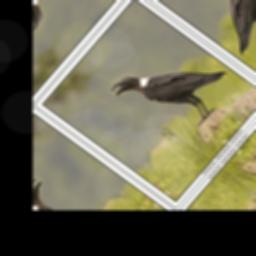Crow: (107, 25, 241, 147)
